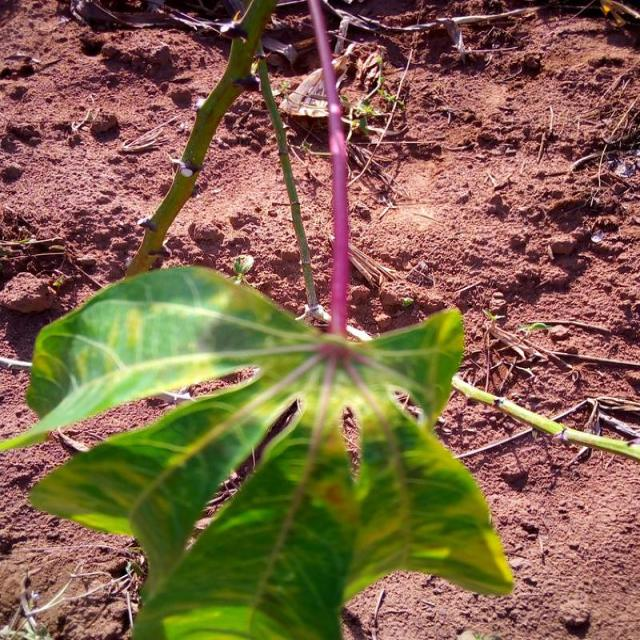cassava leaf: (14, 263, 514, 638)
